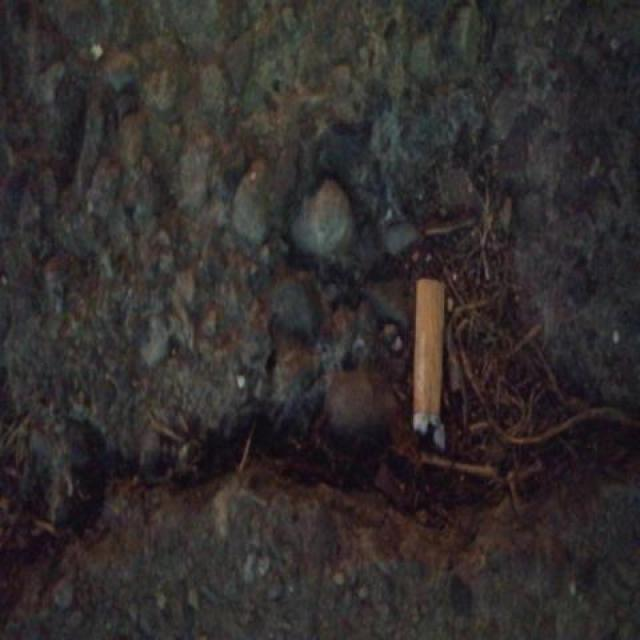non-organic waste: (408, 273, 448, 454)
